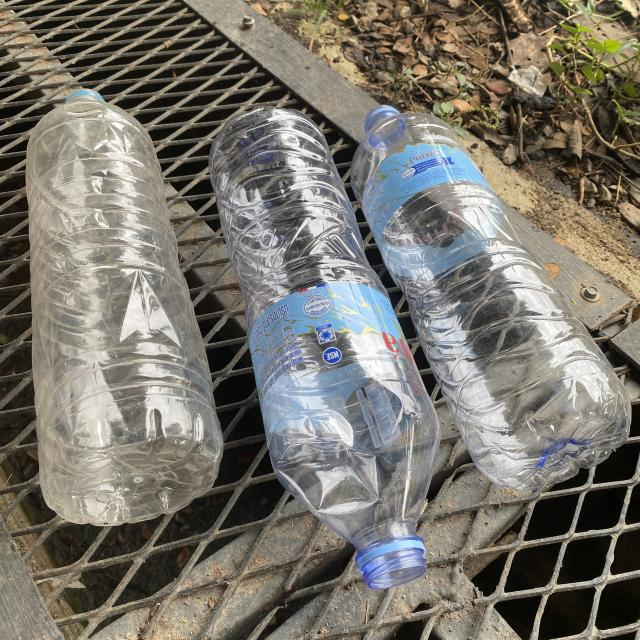plastik: (210, 106, 439, 589), (351, 105, 631, 490), (26, 90, 222, 526)
